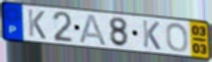2: (51, 11, 74, 44)
8: (108, 17, 130, 48)
A: (78, 13, 108, 47)
K: (26, 8, 47, 41), (141, 19, 162, 51)
O: (165, 22, 189, 53)
